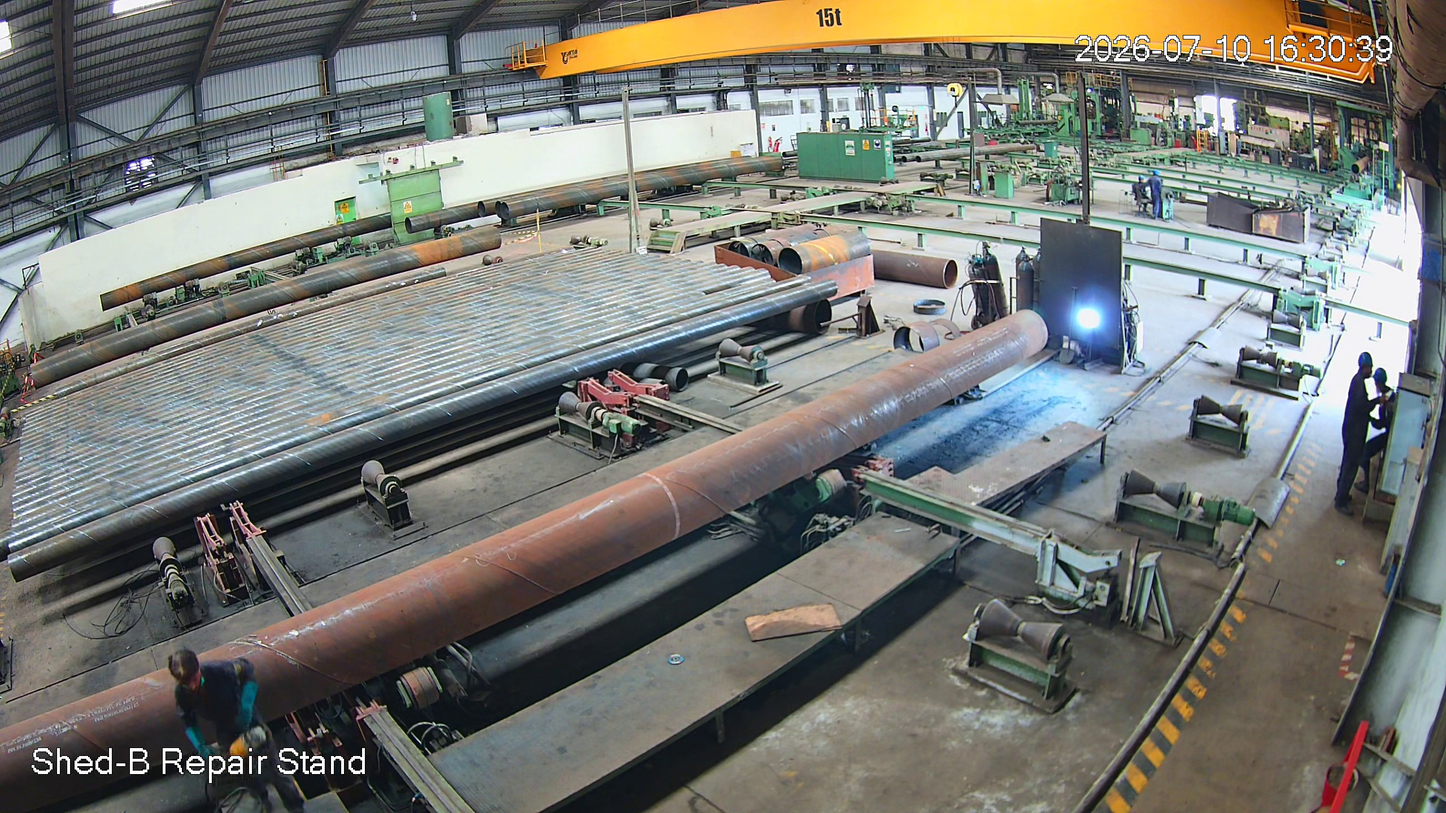Helmet: (1352, 347, 1378, 382)
Person: (162, 647, 307, 813), (1332, 349, 1390, 524)
